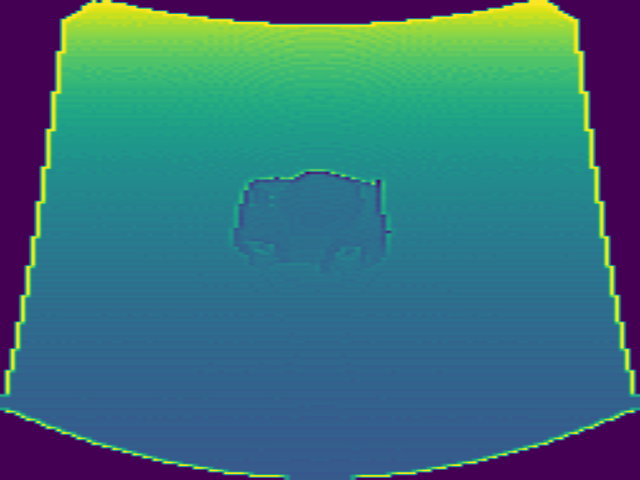car_0027: (230, 169, 392, 271)
